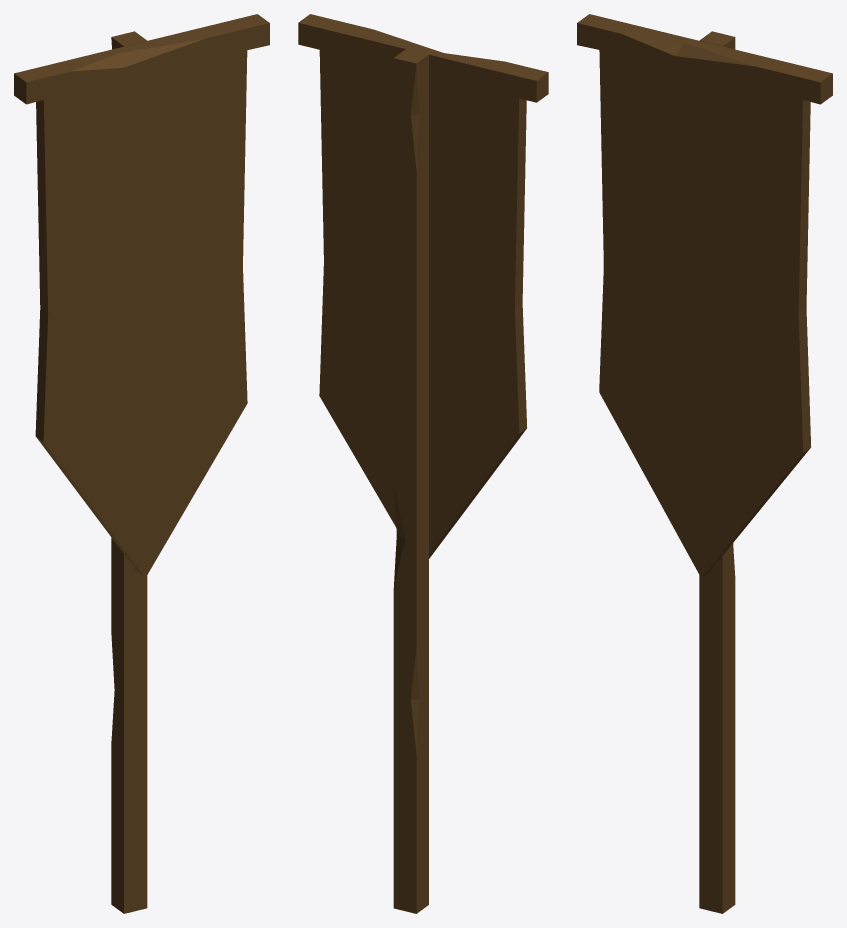
Rendered from banner.fbx.
3 views of the same model, side by side, from view 1: azimuth 30°, elevation 25°; view 2: azimuth 150°, elevation 25°; view 3: azimuth 330°, elevation 25° (orthographic). The views are drawn at different scales.
Parts seen in each view (by area): view 1: banner; view 2: banner; view 3: banner.
Boxes of the visible parts, x1,y1,x2,y2 form: banner: [14, 14, 269, 913]; banner: [298, 14, 548, 913]; banner: [577, 14, 832, 913].
Bounding box in the file's own units: 106 × 362 × 18.92.
